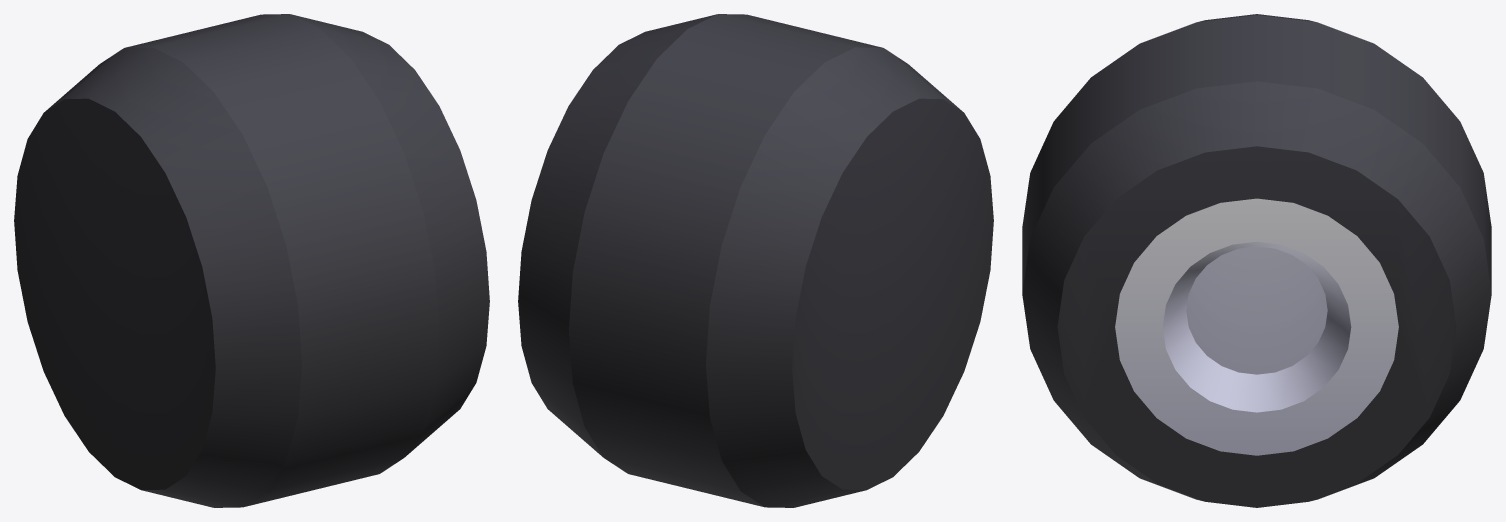
File: wheel-default.glb
3 views of the same model, side by side, from view 1: azimuth 30°, elevation 25°; view 2: azimuth 150°, elevation 25°; view 3: azimuth 270°, elevation 25° (orthographic).
Visible parts, largest first — view 1: wheel-default; view 2: wheel-default; view 3: wheel-default.
Part boxes in pixels (x1=…): wheel-default: x1=14, y1=14, x2=489, y2=507; wheel-default: x1=518, y1=14, x2=993, y2=507; wheel-default: x1=1022, y1=14, x2=1491, y2=507.
Bounding box in the file's own units: 0.6667 × 1 × 1.
Materials: 1 (1 with a texture image).
